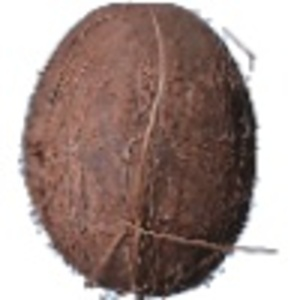coco: (20, 2, 258, 300)
